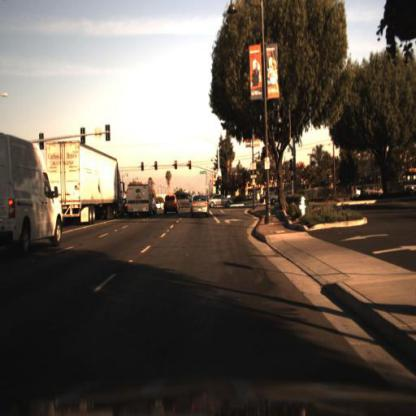car: (1, 129, 69, 253), (127, 183, 156, 219), (188, 194, 212, 221), (263, 187, 296, 206), (265, 190, 298, 207), (174, 191, 194, 216), (208, 191, 233, 211), (163, 191, 180, 216), (122, 193, 130, 216)
trafficLight-Red: (140, 159, 148, 173), (188, 159, 194, 175), (172, 158, 179, 171), (140, 159, 147, 171), (152, 159, 159, 170), (174, 160, 180, 172), (188, 161, 193, 174), (155, 161, 160, 173), (218, 174, 223, 186)
truck: (42, 133, 127, 222)
